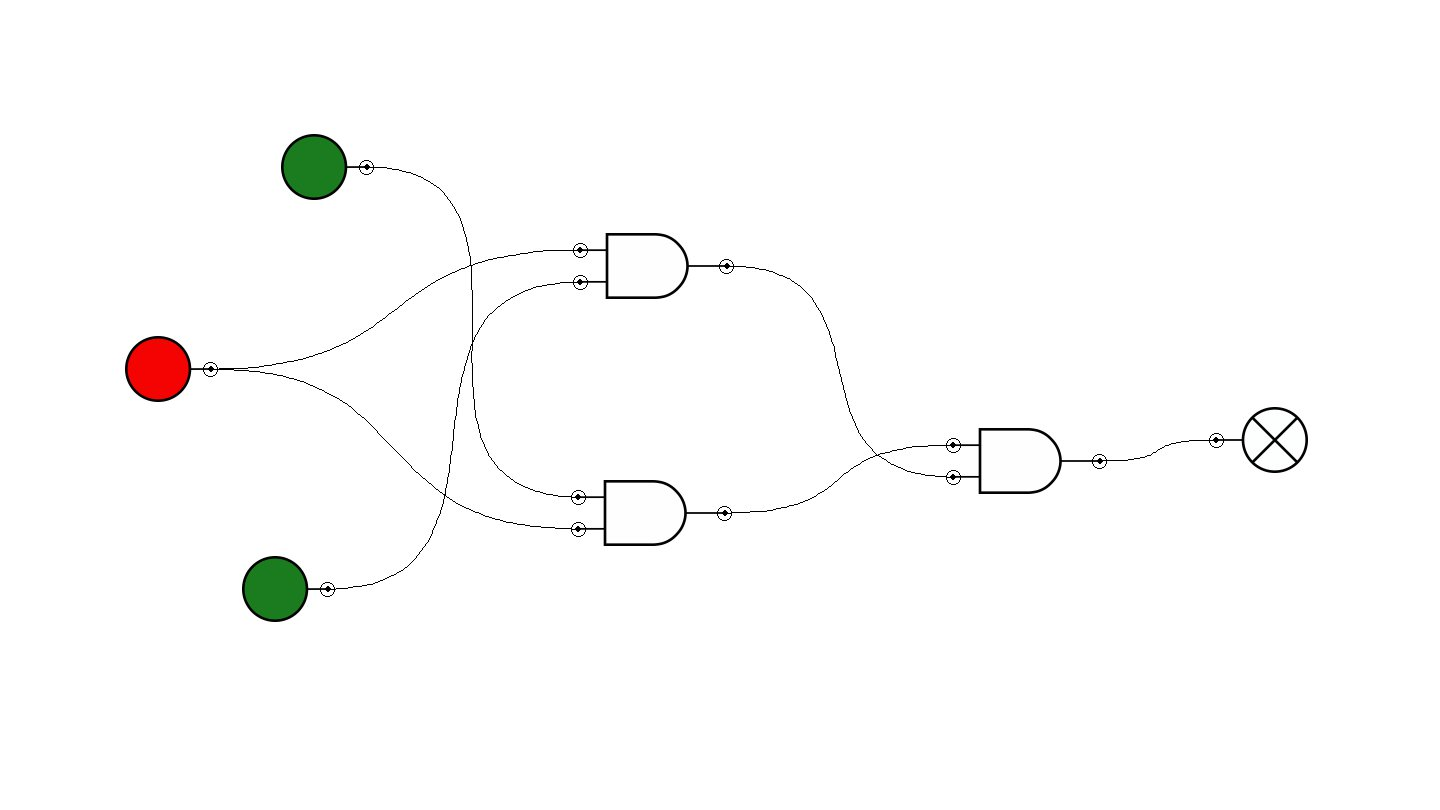and: (946, 428, 1107, 494), (571, 480, 732, 546), (573, 233, 734, 299)
bulb: (1209, 407, 1308, 473)
switch_False: (125, 336, 218, 402)
switch_True: (242, 556, 335, 622), (281, 134, 374, 200)
